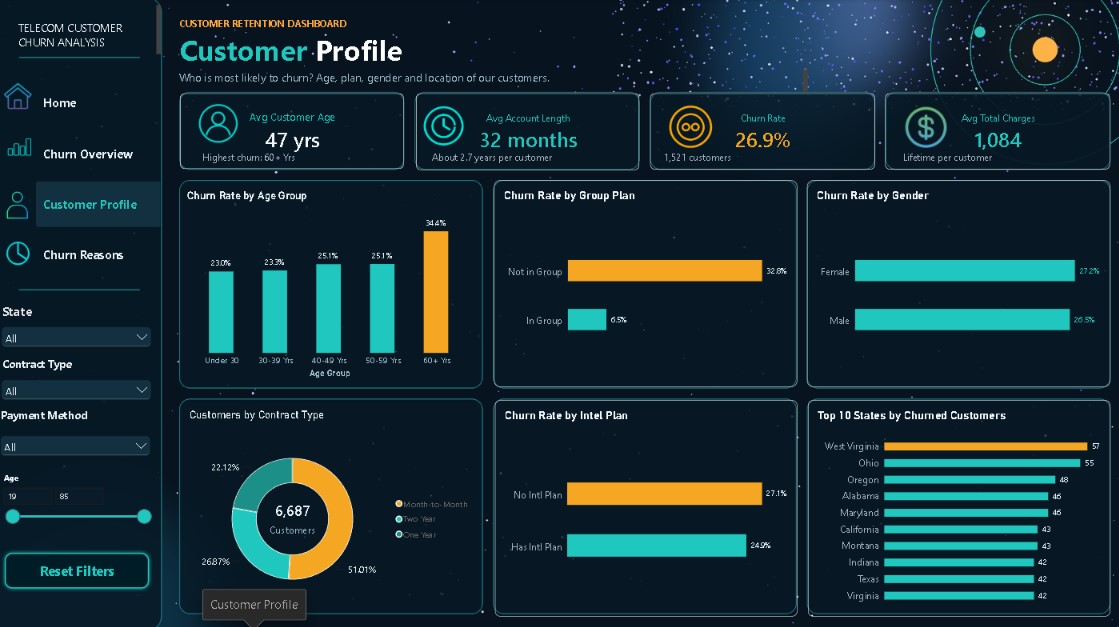

The page's visual inventory and layout, read from the dashboard file:
{"tool":"powerbi","page":{"name":"Customer Profile","canvas":[1920,1080],"ordinal":2},"visuals":[{"type":"cardVisual","fields":{"Data":["Churn data.Churn Rate"]},"box":[1112.2,159.9,383,130],"z":0},{"type":"cardVisual","fields":{"Data":["Churn data.Avg Age Text"]},"box":[312.9,160,381.2,129.5],"z":0,"group":"g1"},{"type":"cardVisual","fields":{"Data":["Churn data.Avg Total Charges"]},"box":[1512.7,159.9,383,130],"z":1000},{"type":"cardVisual","fields":{"Data":["Churn data.Avg Account Length"]},"box":[714.1,159.9,380.9,132],"z":2000},{"type":"group","id":"g1","title":"Group 2","box":[312.9,160,381.2,129.5],"z":3000},{"type":"image","box":[339.9,174.4,75.5,73.7],"z":4000,"group":"g1"},{"type":"textbox","box":[1135.9,256.5,215.6,31.6],"z":4000},{"type":"textbox","box":[1543,256.5,176.6,31.6],"z":5000},{"type":"textbox","box":[337.5,257.6,186.6,24.4],"z":5000,"group":"g1"},{"type":"textbox","box":[741.3,256.4,232,26.2],"z":6000},{"type":"image","box":[1543,174.7,78.1,85.5],"z":7000},{"type":"clusteredBarChart","title":"Top 10 States by Churned Customers","fields":{"Category":["Churn data.State"],"Y":["Churn data.Churned Customers for calc"]},"box":[1381.4,682,514.5,368],"z":8000},{"type":"clusteredBarChart","title":"Churn Rate by Group Plan","fields":{"Category":["Churn data.Group Plan "],"Y":["Churn data.Churn Rate"]},"box":[847.7,308.7,516.3,352.3],"z":9000},{"type":"clusteredBarChart","title":"Churn Rate by Gender","fields":{"Category":["Churn data.Gender"],"Y":["Churn data.Churn Rate"]},"box":[1379.7,308.7,516,352.3],"z":10000},{"type":"donutChart","title":"Customers by Contract Type","fields":{"Category":["Churn data.Contract Type"],"Y":["Churn data.Total Customers for calcu"]},"box":[312.2,682,514.5,368],"z":11000},{"type":"clusteredColumnChart","title":"Churn Rate by Age Group","fields":{"Category":["Churn data.Age Group"],"Y":["Churn data.Churn Rate"]},"box":[310.5,310.5,516.3,350.6],"z":12000},{"type":"textbox","box":[312.2,29.7,446.5,22.7],"z":13000},{"type":"textbox","box":[312.2,52.3,552.9,66.3],"z":14000},{"type":"textbox","box":[311.6,118.9,1069.9,41.4],"z":15000},{"type":"textbox","box":[0,10.5,280.8,89],"z":16000},{"type":"shape","box":[38.4,85.5,205.8,27.9],"z":17000},{"type":"image","box":[0,141.6,75,47.1],"z":18000},{"type":"image","box":[0,216.6,80.2,69.8],"z":19000},{"type":"image","box":[5.2,323,62.8,54.1],"z":20000},{"type":"image","box":[3.5,410.2,68,43.6],"z":21000},{"type":"shape","box":[38.4,484.9,205.8,19.2],"z":22000},{"type":"pageNavigator","box":[68,137.8,212.8,338.4],"z":23000},{"type":"slicer","fields":{"Values":["Churn data.State"]},"box":[5.2,552.9,263.4,52.3],"z":24000},{"type":"textbox","box":[10.5,516.3,263.4,36.6],"z":25000},{"type":"slicer","fields":{"Values":["Churn data.Contract Type"]},"box":[5.2,643.6,263.4,50.6],"z":26000},{"type":"textbox","box":[10.5,606.6,263.4,36.6],"z":27000},{"type":"slicer","fields":{"Values":["Churn data.Payment Method"]},"box":[3.5,737.8,263.4,50.6],"z":28000},{"type":"textbox","box":[7.7,694.5,263.4,31.4],"z":29000},{"type":"actionButton","box":[8.7,934.9,258.1,73.3],"z":30000},{"type":"image","box":[725.6,177.9,73.3,73.3],"z":31000},{"type":"image","box":[1135.5,177.9,94.2,76.7],"z":32000},{"type":"slicer","fields":{"Values":["Churn data.Age"]},"box":[5.2,805.8,263.4,89],"z":33000},{"type":"clusteredBarChart","title":"Churn Rate by Intel Plan","fields":{"Category":["Churn data.Intl Plan Status"],"Y":["Churn data.Churn Rate"]},"box":[849.4,682,514.5,368],"z":34000}]}

Visuals, with their boxes on the page's 1920x1080 design canvas (x1, y1, x2, y2). These are canvas units, not pixel positions in the 1119x627 screenshot, which may show the page scaled, cropped or inside an application window:
cardVisual - Churn data.Churn Rate: select_region(1112, 160, 1495, 290)
cardVisual - Churn data.Avg Age Text: select_region(313, 160, 694, 290)
cardVisual - Churn data.Avg Total Charges: select_region(1513, 160, 1896, 290)
cardVisual - Churn data.Avg Account Length: select_region(714, 160, 1095, 292)
"Group 2" group: select_region(313, 160, 694, 290)
image: select_region(340, 174, 415, 248)
textbox: select_region(1136, 256, 1352, 288)
textbox: select_region(1543, 256, 1720, 288)
textbox: select_region(338, 258, 524, 282)
textbox: select_region(741, 256, 973, 283)
image: select_region(1543, 175, 1621, 260)
"Top 10 States by Churned Customers" clusteredBarChart: select_region(1381, 682, 1896, 1050)
"Churn Rate by Group Plan" clusteredBarChart: select_region(848, 309, 1364, 661)
"Churn Rate by Gender" clusteredBarChart: select_region(1380, 309, 1896, 661)
"Customers by Contract Type" donutChart: select_region(312, 682, 827, 1050)
"Churn Rate by Age Group" clusteredColumnChart: select_region(310, 310, 827, 661)
textbox: select_region(312, 30, 759, 52)
textbox: select_region(312, 52, 865, 119)
textbox: select_region(312, 119, 1382, 160)
textbox: select_region(0, 10, 281, 100)
shape: select_region(38, 86, 244, 113)
image: select_region(0, 142, 75, 189)
image: select_region(0, 217, 80, 286)
image: select_region(5, 323, 68, 377)
image: select_region(4, 410, 72, 454)
shape: select_region(38, 485, 244, 504)
pageNavigator: select_region(68, 138, 281, 476)
slicer - Churn data.State: select_region(5, 553, 269, 605)
textbox: select_region(10, 516, 274, 553)
slicer - Churn data.Contract Type: select_region(5, 644, 269, 694)
textbox: select_region(10, 607, 274, 643)
slicer - Churn data.Payment Method: select_region(4, 738, 267, 788)
textbox: select_region(8, 694, 271, 726)
actionButton: select_region(9, 935, 267, 1008)
image: select_region(726, 178, 799, 251)
image: select_region(1136, 178, 1230, 255)
slicer - Churn data.Age: select_region(5, 806, 269, 895)
"Churn Rate by Intel Plan" clusteredBarChart: select_region(849, 682, 1364, 1050)
